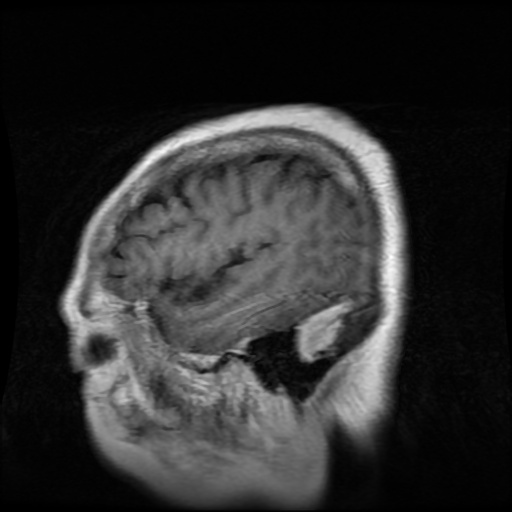meningioma: (294, 299, 354, 365)
